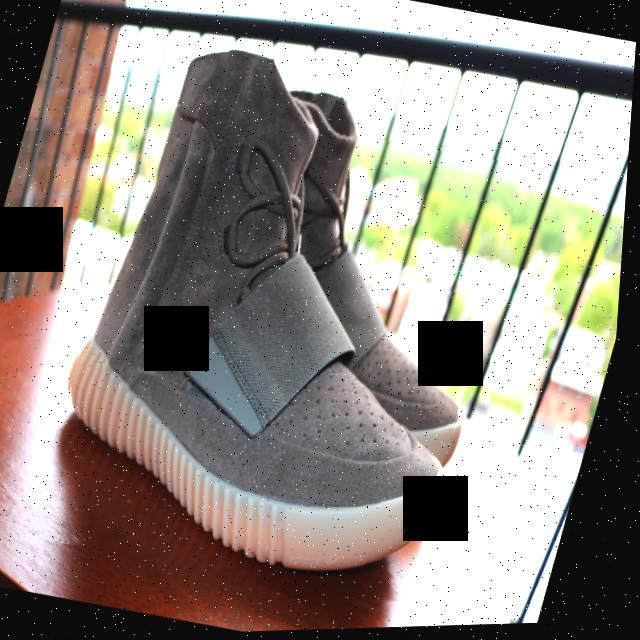shoe: (29, 23, 550, 619)
